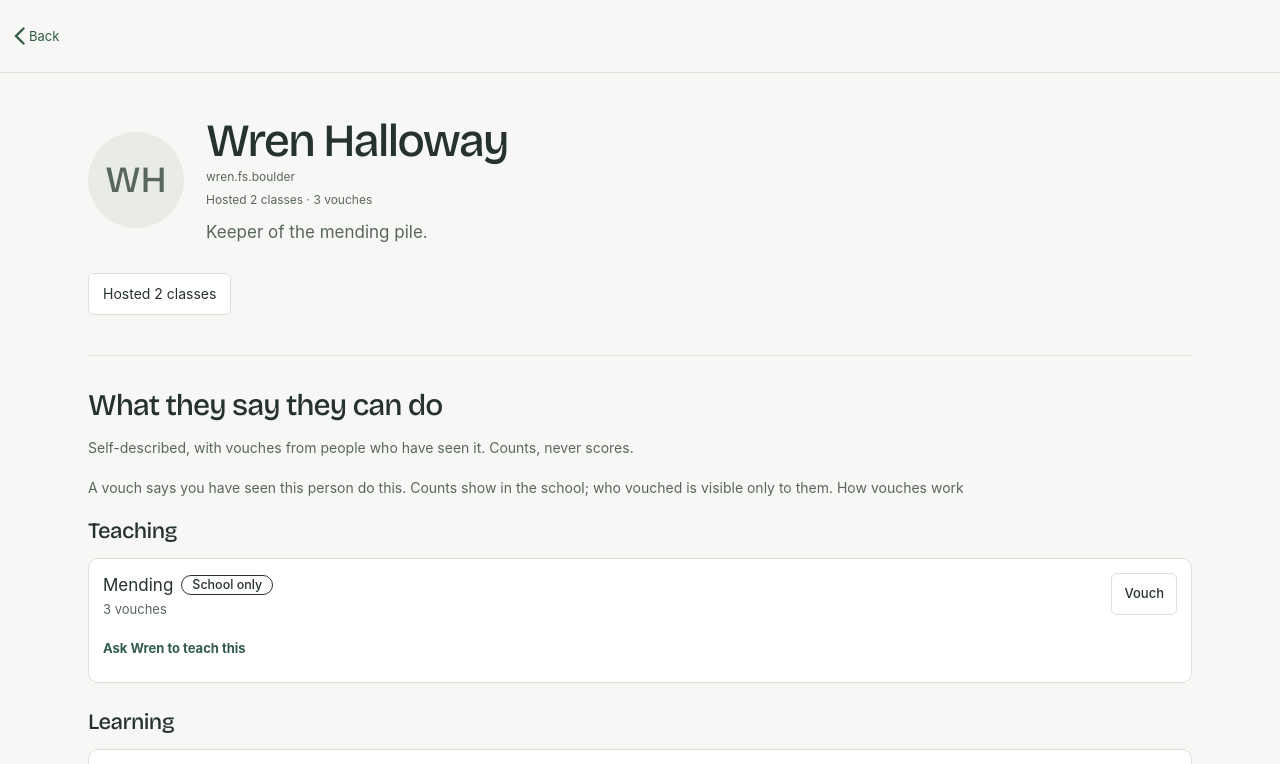
Scenario: MemberProfileScreen › shows the reason rather than a dead end when the vouch is refused
Click the button "Vouch" in the row of "School only".
click(1144, 594)  # box [1112,573,1177,615]
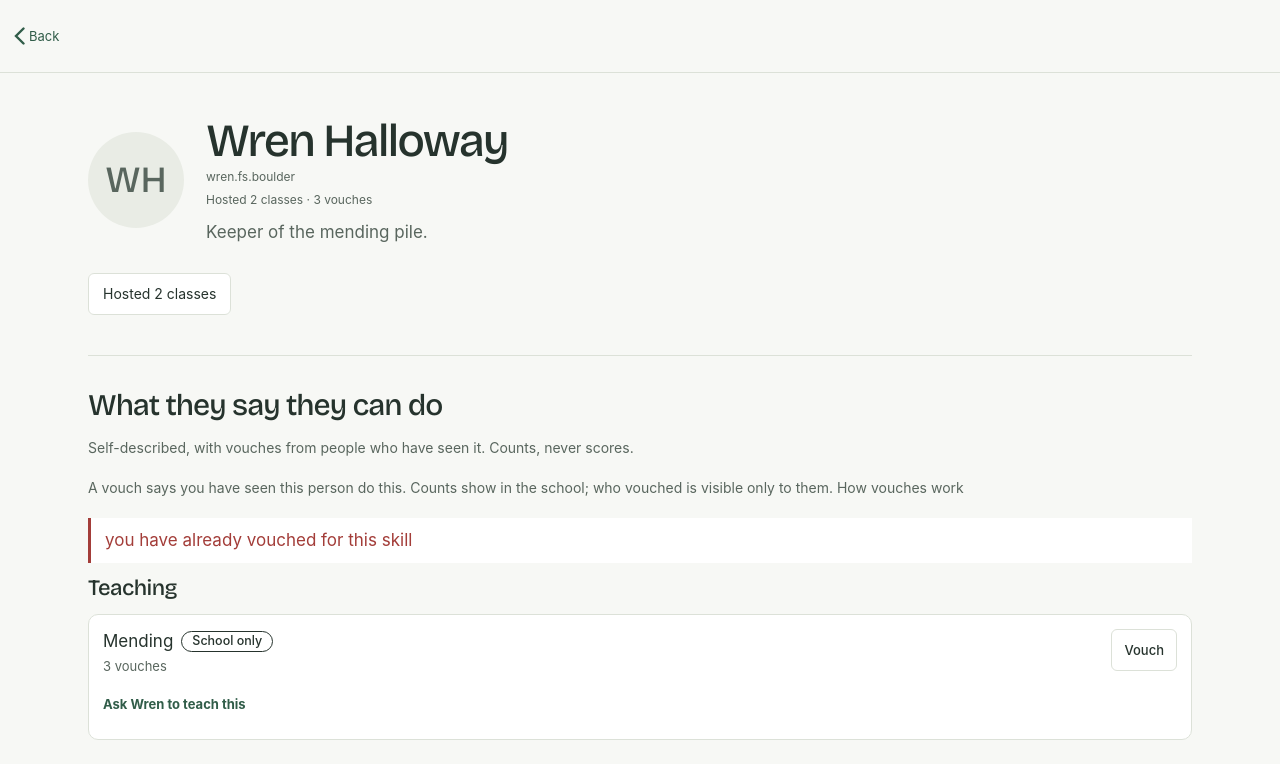
Expected: the text "you have already vouched for this skill" is shown, [88,518,1192,563]
